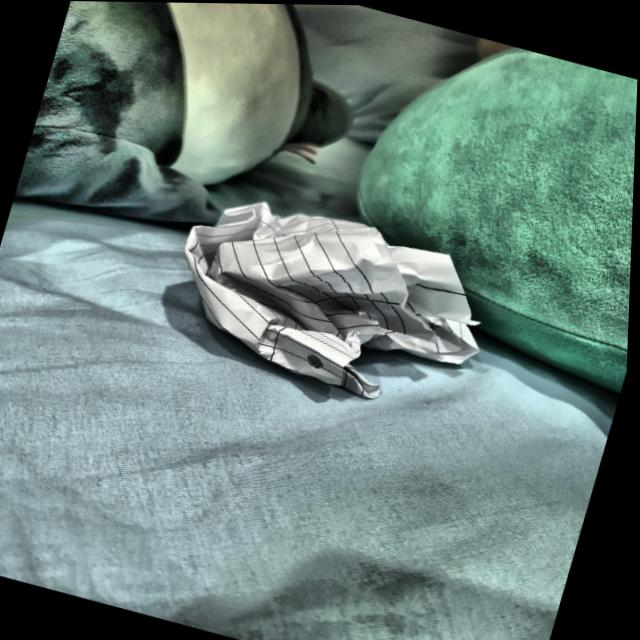Paper: (148, 168, 505, 423)
